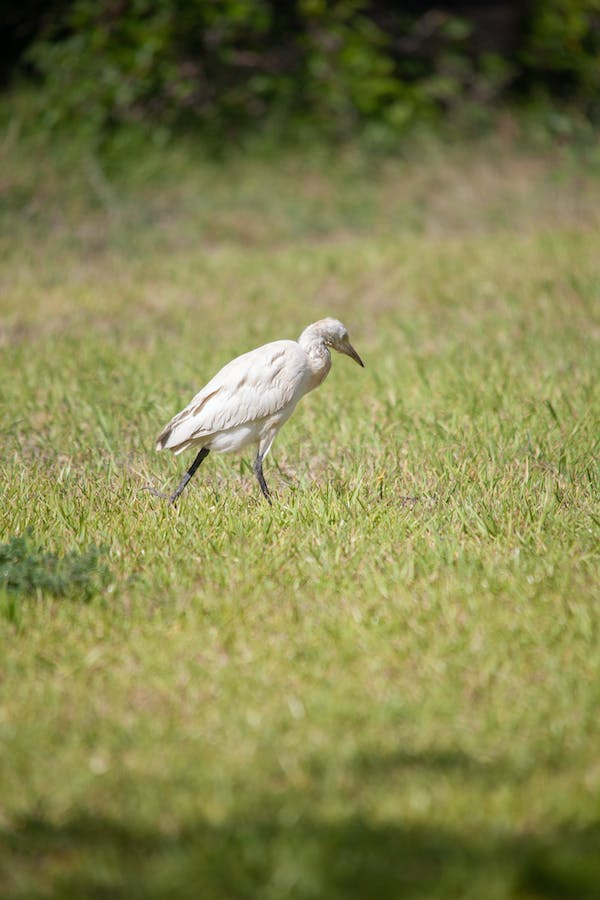Walking: (150, 291, 382, 535)
